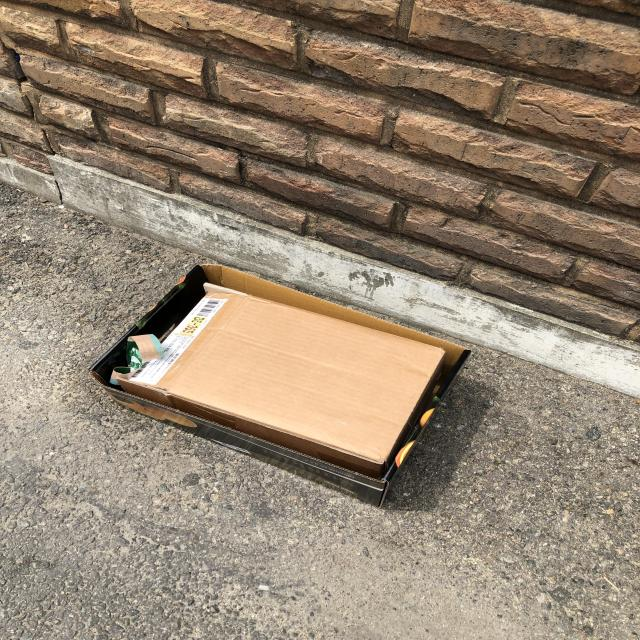hopgiay: (92, 264, 472, 506)
